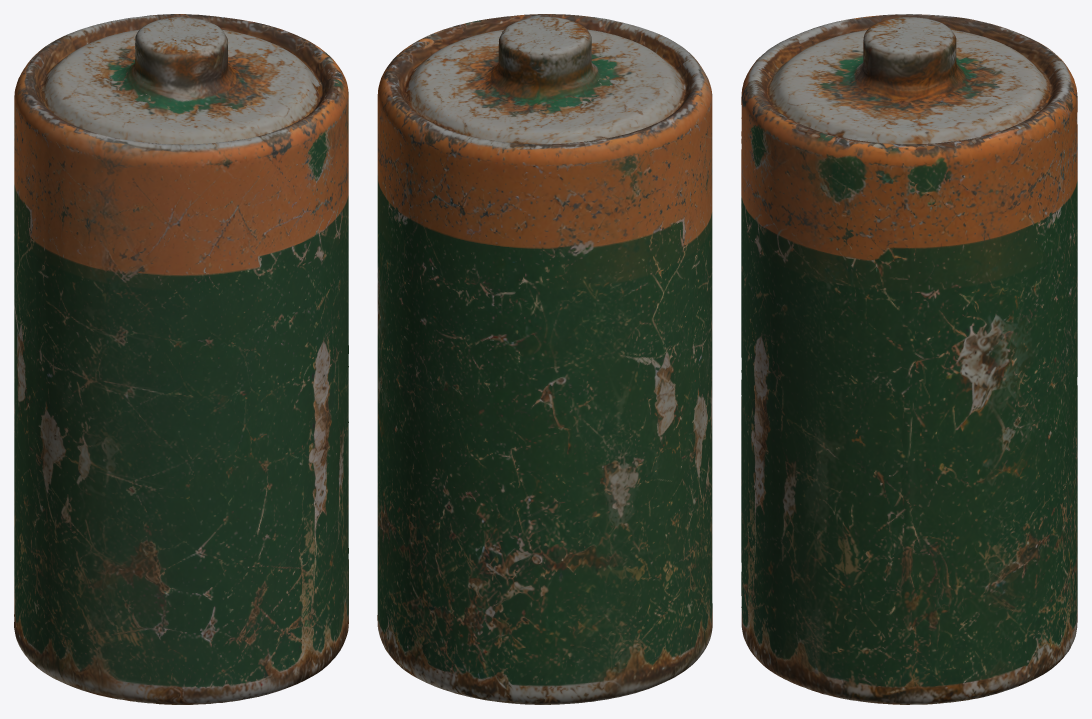
The model's file is Battery.fbx.
3 views of the same model, side by side, from view 1: azimuth 30°, elevation 25°; view 2: azimuth 150°, elevation 25°; view 3: azimuth 270°, elevation 25° (orthographic).
Parts seen in each view (by area): view 1: texture_mapping; view 2: texture_mapping; view 3: texture_mapping.
Part boxes in pixels (x1,y1,x2,y2): texture_mapping: (14, 14, 348, 704); texture_mapping: (377, 14, 712, 704); texture_mapping: (741, 14, 1077, 704).
Size of the model in its own units: 0.5034 by 0.5038 by 1.
1 material, 1 textured.
